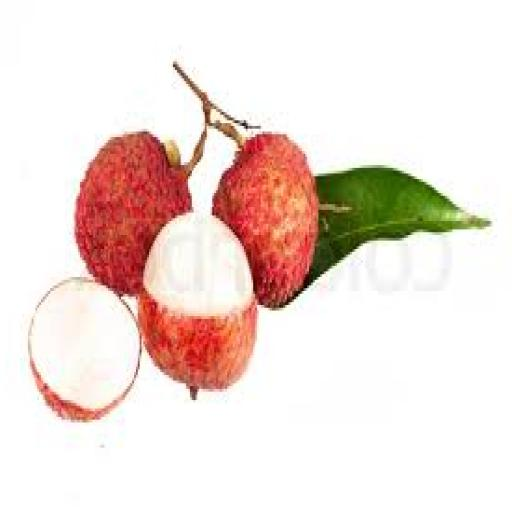lychee: (137, 213, 255, 397), (74, 132, 190, 293), (212, 135, 317, 307), (27, 277, 140, 419)
